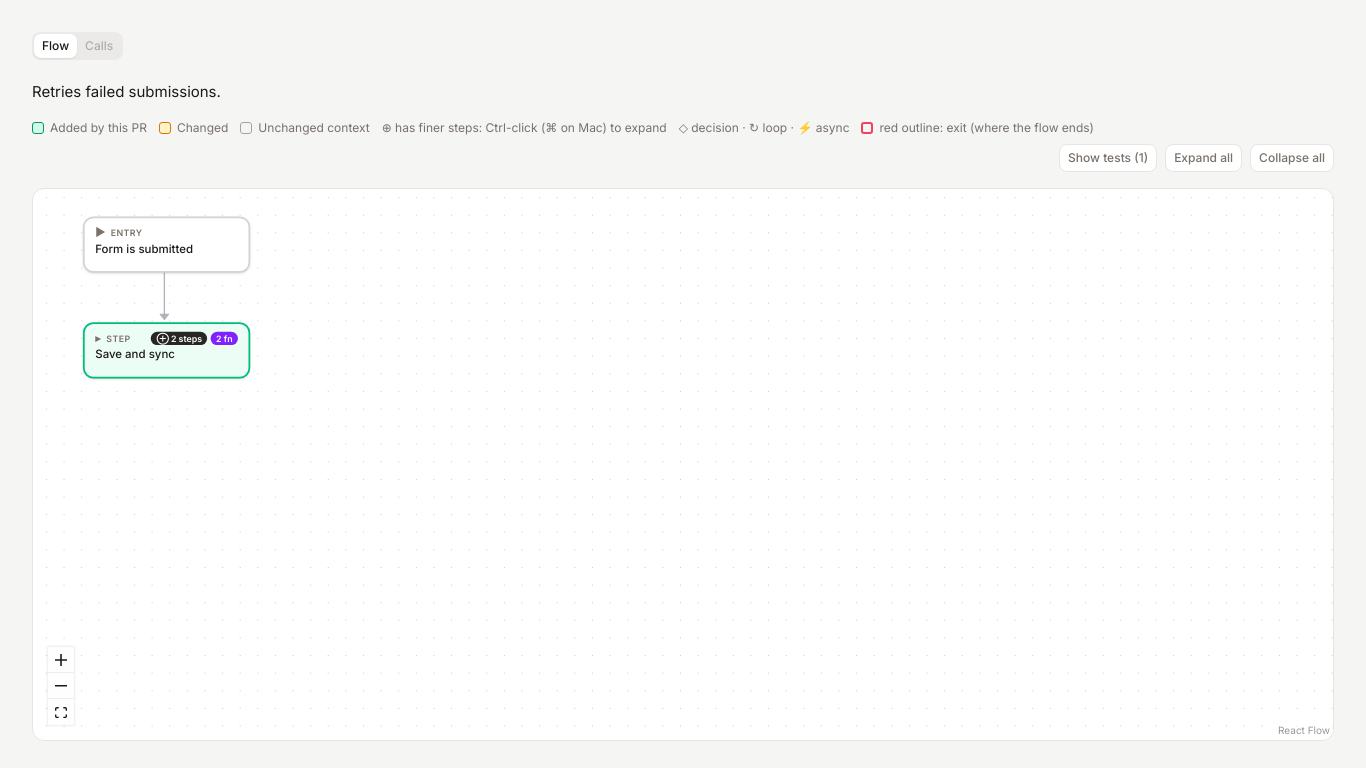
Test: a plain click on an expandable block shows the code of every step inside it
The image size is (1366, 768).
What coordinates should you click on to do the following:
click the button with aria-label "Save and sync ⊕"
I would click on:
 (167, 351)
Its box is [83, 322, 250, 379].
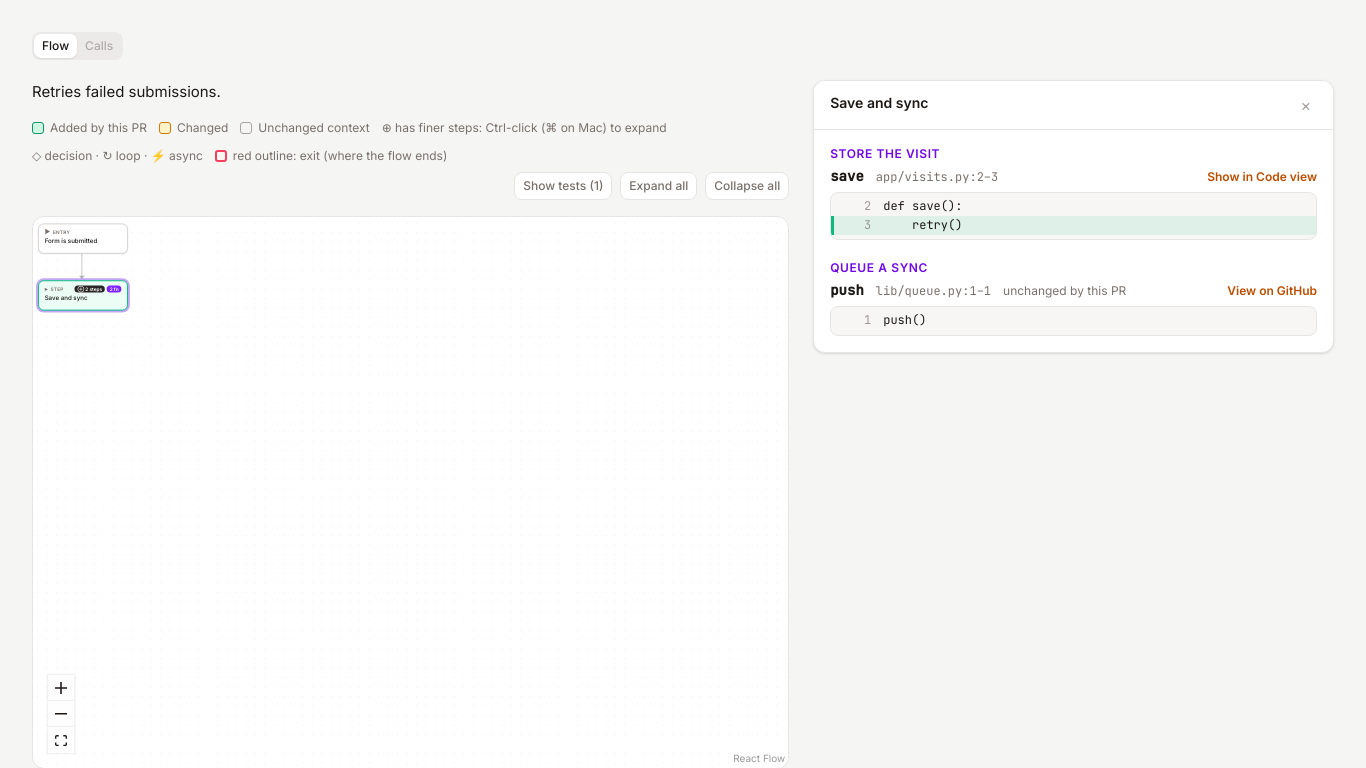
Check: the text "save" is shown, box [830, 166, 864, 186]
Check: the text "push" is shown, box [830, 280, 864, 300]
Check: the text "Store the visit" is shown, box [830, 146, 940, 161]
